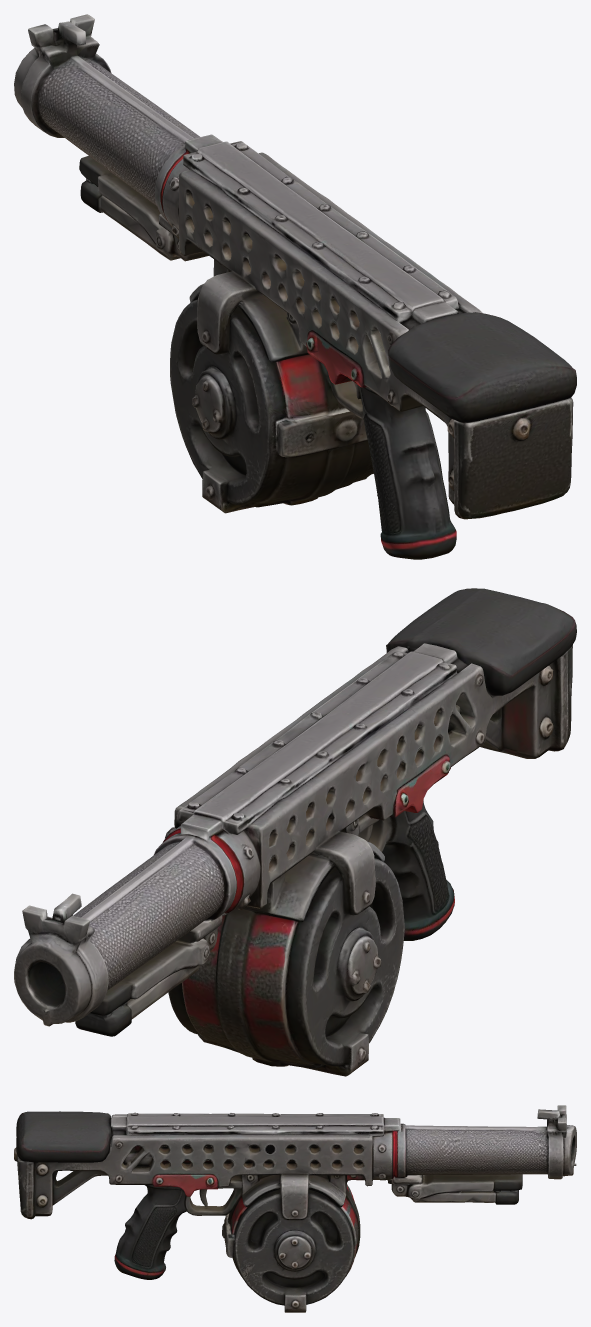
Rendered from weapon-deadlift.glb.
3 views of the same model, one above another, from view 1: azimuth 30°, elevation 25°; view 2: azimuth 150°, elevation 25°; view 3: azimuth 270°, elevation 25° (orthographic). The views are drawn at different scales.
Parts seen in each view (by area): view 1: tripo_node_e83e44dd-1744-4335-8d81-a7cfb29420b4; view 2: tripo_node_e83e44dd-1744-4335-8d81-a7cfb29420b4; view 3: tripo_node_e83e44dd-1744-4335-8d81-a7cfb29420b4.
Part boxes in pixels (box(x1,y1,x2,y2)): tripo_node_e83e44dd-1744-4335-8d81-a7cfb29420b4: box(14, 14, 576, 559); tripo_node_e83e44dd-1744-4335-8d81-a7cfb29420b4: box(14, 588, 576, 1076); tripo_node_e83e44dd-1744-4335-8d81-a7cfb29420b4: box(14, 1105, 576, 1312).
Size of the model in its own units: 0.2236 by 0.3985 by 1.1.
1 material, 1 textured.
